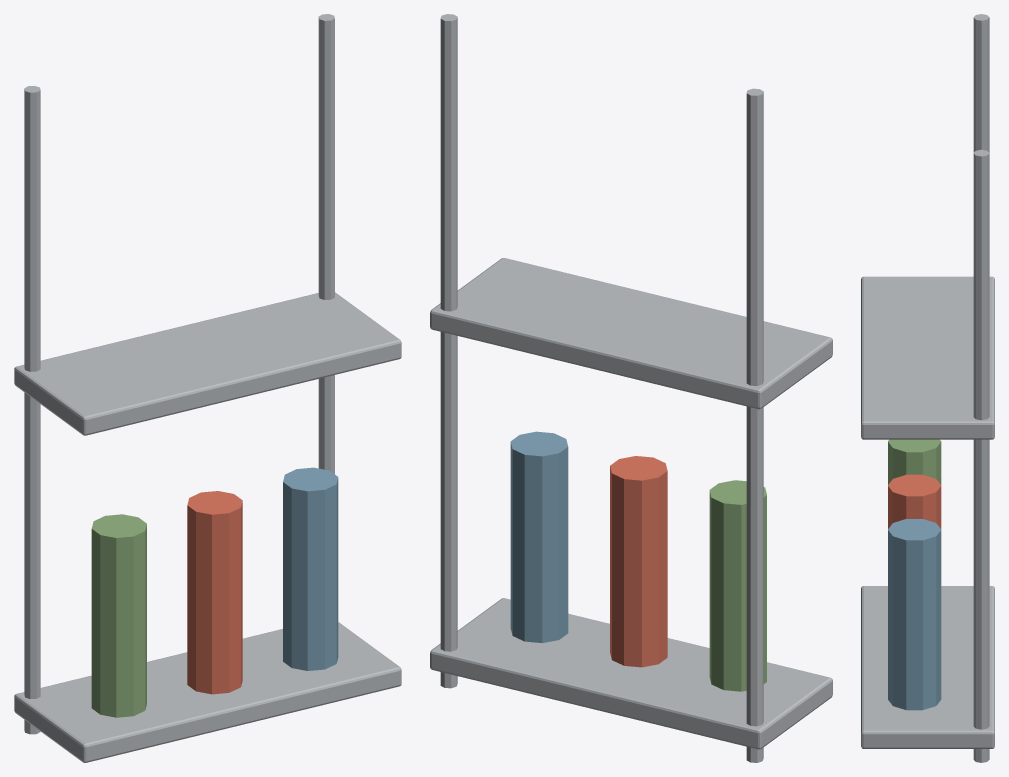
Rendered from hh_shower_caddy.glb.
The picture shows the model from 3 angles, left to right: view 1: azimuth 30°, elevation 25°; view 2: azimuth 150°, elevation 25°; view 3: azimuth 270°, elevation 25°; orthographic projection. The views are drawn at different scales.
Parts seen in each view (by area): view 1: shelf.001, shelf, bottle, bottle.001, bottle.002, rail, rail.001; view 2: shelf.001, shelf, bottle.002, bottle.001, rail, rail.001, bottle; view 3: shelf.001, shelf, bottle.002, rail.001, bottle.001, rail, bottle.
Boxes of the visible parts, x1,y1,x2,y2 form: shelf.001: (14,292,401,435); shelf: (14,622,401,762); bottle: (91,514,146,717); bottle.001: (187,491,242,694); bottle.002: (283,467,338,670); rail: (24,86,40,734); rail.001: (318,14,334,473); shelf.001: (430,258,832,409); shelf: (430,598,832,749); bottle.002: (510,431,568,643); bottle.001: (610,456,667,667); rail: (746,88,763,762); rail.001: (440,14,457,688); bottle: (709,480,766,691); shelf.001: (861,276,994,439); shelf: (861,586,994,748); bottle.002: (888,519,941,710); rail.001: (973,149,989,762); bottle.001: (888,474,941,528); rail: (973,14,989,152); bottle: (888,439,941,484).
Size of the model in its own units: 0.26 by 0.5 by 0.1.
